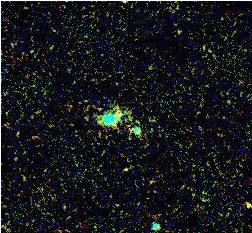star: (232, 187, 252, 217)
